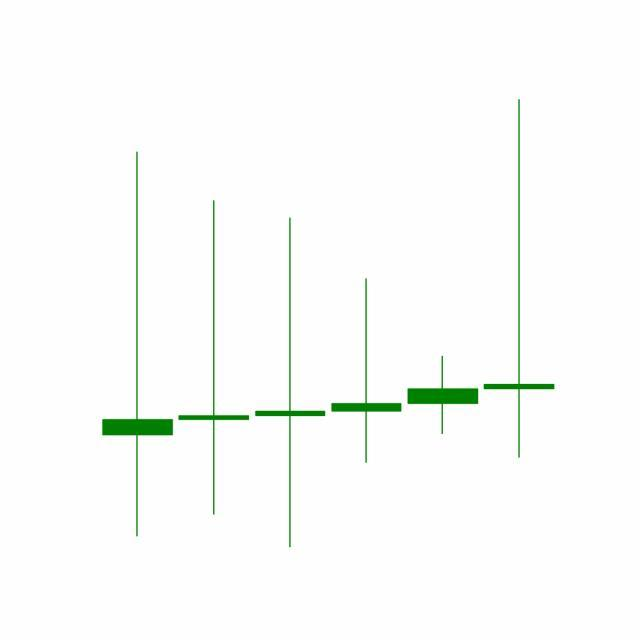Gravestone Doji: (404, 355, 482, 436)
